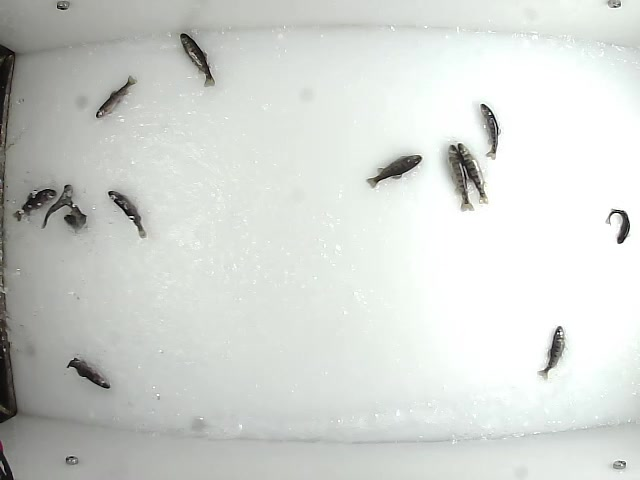fish: (177, 31, 219, 90), (455, 140, 490, 207), (105, 189, 149, 240), (446, 142, 477, 213), (92, 74, 140, 119), (365, 153, 423, 190), (38, 181, 73, 233), (11, 184, 58, 222), (536, 324, 567, 381), (65, 356, 113, 388), (481, 103, 501, 162), (605, 208, 633, 245), (62, 198, 90, 230)
